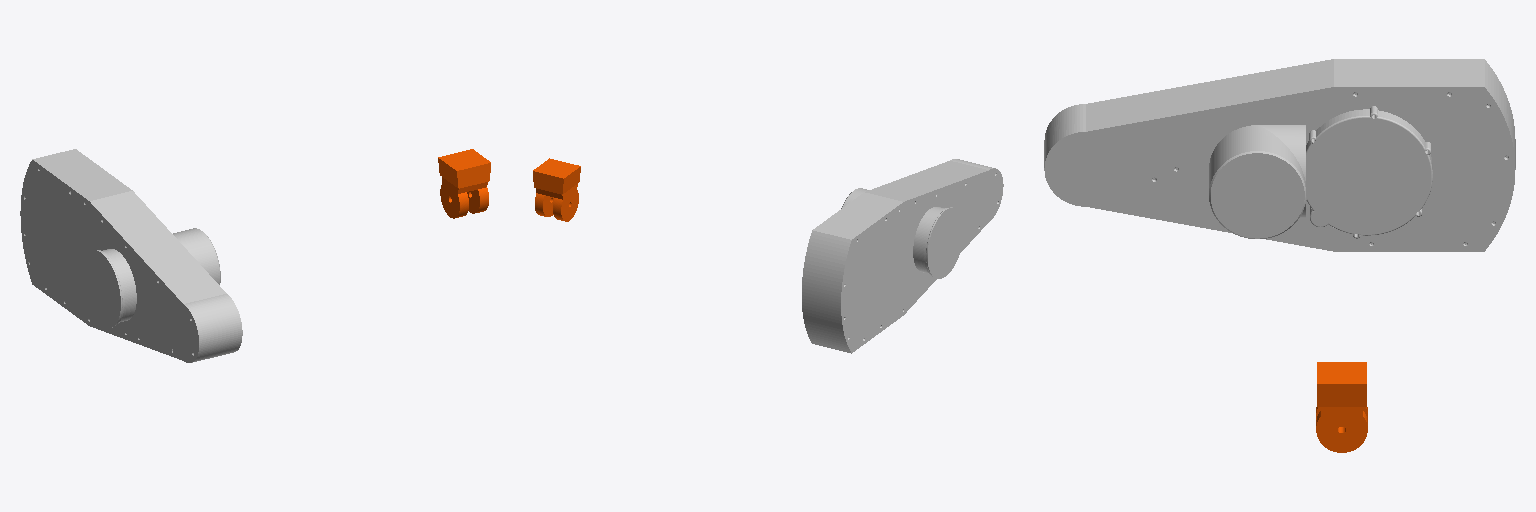
robot.urdf — puma560:
<?xml version="1.0" ?>
<!-- =================================================================================== -->
<!-- |    This document was autogenerated by xacro from [local-path]/jade_workspace/src/puma560/puma560_description/urdf/puma560_v4.xacro | -->
<!-- |    EDITING THIS FILE BY HAND IS NOT RECOMMENDED                                 | -->
<!-- =================================================================================== -->
<!-- UNIMATE Puma 560 Manipulator -->
<robot name="puma560" xmlns:xacro="http://www.ros.org/wiki/xacro">
  <material name="black">
    <color rgba="0.0 0.0 0.0 1.0"/>
  </material>
  <material name="blue">
    <color rgba="0.0 0.0 0.8 1.0"/>
  </material>
  <material name="green">
    <color rgba="0.0 0.8 0.0 1.0"/>
  </material>
  <material name="grey">
    <color rgba="0.2 0.2 0.2 1.0"/>
  </material>
  <material name="red">
    <color rgba="0.8 0.0 0.0 1.0"/>
  </material>
  <material name="red_transparent">
    <color rgba="0.8 0.0 0.0 0.5"/>
  </material>
  <material name="white">
    <color rgba="1.0 1.0 1.0 1.0"/>
  </material>
  <material name="orange">
    <color rgba="1.0 0.423529411765 0.0392156862745 1.0"/>
  </material>
  <material name="brown">
    <color rgba="0.870588235294 0.811764705882 0.764705882353 1.0"/>
  </material>
  <material name="metal">
    <color rgba="0.827450980392 0.827450980392 0.827450980392 1"/>
  </material>
  <material name="wood">
    <color rgba="0.803921568627 0.521568627451 0.247058823529 1"/>
  </material>
  <!-- Base link-->
  <gazebo reference="puma_base">
    <material>Gazebo/Grey</material>
  </gazebo>
  <!-- Link 1 -->
  <gazebo reference="puma_link_1">
    <material>Gazebo/Metal</material>
  </gazebo>
  <!-- Link 2 -->
  <gazebo reference="puma_link_2">
    <material>Gazebo/Metal</material>
  </gazebo>
  <!-- Link 3 -->
  <gazebo reference="puma_link_3">
    <material>Gazebo/Metal</material>
  </gazebo>
  <!-- Link 4 -->
  <gazebo reference="puma_link_4">
    <material>Gazebo/Orange</material>
  </gazebo>
  <!-- Link 5 -->
  <gazebo reference="puma_link_5">
    <material>Gazebo/Orange</material>
  </gazebo>
  <!-- Link definitions -->
  <link name="world"/>
  <joint name="world" type="fixed">
    <parent link="world"/>
    <child link="puma_base"/>
    <origin rpy="0 0 0" xyz="0 0 0.54864"/>
    <axis xyz="0 0 1"/>
  </joint>
  <link name="puma_base">
    <visual>
      <origin rpy="0 0 0" xyz="0 0 0"/>
      <geometry>
        <mesh filename="package://puma560_description/meshes/puma_base.stl"/>
      </geometry>
      <material name="grey"/>
    </visual>
    <collision>
      <origin rpy="0 0 0" xyz="0 0 0"/>
      <geometry>
        <mesh filename="package://puma560_description/meshes/puma_base_collision.stl"/>
      </geometry>
    </collision>
    <!-- Inertia parameters 
      mass and center of mass (com)
      inertia_diagonal defined as [Ixx Iyy Izz]
      inertia_off_diagonal defined as [Ixy Ixz Iyz]
    -->
    <inertial>
      <origin rpy="0 0 0" xyz="-0.0 0.02196 -0.356146"/>
      <mass value="42.62416"/>
      <inertia ixx="1.48565" ixy="0" ixz="0" iyy="1.36144" iyz="0.05984" izz="0.43392"/>
    </inertial>
    <inertial>
      <origin rpy="0 0 0" xyz="-0.0 0.02196 -0.356146"/>
      <mass value="15.78673"/>
      <inertia ixx="0.55024" ixy="0" ixz="0" iyy="0.50424" iyz="0.02216" izz="0.16071"/>
    </inertial>
  </link>
  <joint name="link_1" type="continuous">
    <parent link="puma_base"/>
    <child link="puma_link_1"/>
    <origin rpy="0 0 0" xyz="0 0 0.07493"/>
    <axis xyz="0 0 1"/>
  </joint>
  <link name="puma_link_1">
    <visual>
      <origin rpy="0 0 0" xyz="0 0 0"/>
      <geometry>
        <mesh filename="package://puma560_description/meshes/puma_link_1.stl"/>
      </geometry>
      <material name="metal"/>
    </visual>
    <collision>
      <origin rpy="0 0 0" xyz="0 0 0"/>
      <geometry>
        <mesh filename="package://puma560_description/meshes/puma_link_1_collision.stl"/>
      </geometry>
    </collision>
    <!-- Inertia parameters 
      mass and center of mass (com)
      inertia_diagonal defined as [Ixx Iyy Izz]
      inertia_off_diagonal defined as [Ixy Ixz Iyz]
    -->
    <inertial>
      <origin rpy="0 0 0" xyz="-0.0 0.022503 -0.002794"/>
      <mass value="11.97216"/>
      <inertia ixx="0.07379" ixy="0" ixz="0" iyy="0.03595" iyz="-0.00075" izz="0.07334"/>
    </inertial>
    <inertial>
      <origin rpy="0 0 0" xyz="-0.0 0.022503 -0.002794"/>
      <mass value="4.43413"/>
      <inertia ixx="0.02733" ixy="0" ixz="0" iyy="0.01332" iyz="-0.00028" izz="0.02716"/>
    </inertial>
  </link>
  <joint name="link_2" type="continuous">
    <parent link="puma_link_1"/>
    <child link="puma_link_2"/>
    <origin rpy="1.57079632679 0 0" xyz="0 0.16764 0"/>
    <axis xyz="0 0 1"/>
  </joint>
  <link name="puma_link_2">
    <visual>
      <origin rpy="0 0 0" xyz="0 0 0"/>
      <geometry>
        <mesh filename="package://puma560_description/meshes/puma_link_2.stl"/>
      </geometry>
      <material name="metal"/>
    </visual>
    <collision>
      <origin rpy="0 0 0" xyz="0 0 0"/>
      <geometry>
        <mesh filename="package://puma560_description/meshes/puma_link_2_collision.stl"/>
      </geometry>
    </collision>
    <!-- Inertia parameters 
      mass and center of mass (com)
      inertia_diagonal defined as [Ixx Iyy Izz]
      inertia_off_diagonal defined as [Ixy Ixz Iyz]
    -->
    <inertial>
      <origin rpy="0 0 0" xyz="0.082741 4.7e-05 -0.047642"/>
      <mass value="45.48585"/>
      <inertia ixx="0.26252" ixy="2e-05" ixz="0.26252" iyy="1.61075" iyz="-0.00013" izz="1.78135"/>
    </inertial>
    <inertial>
      <origin rpy="0 0 0" xyz="0.082741 4.7e-05 -0.047642"/>
      <mass value="16.84661"/>
      <inertia ixx="0.09723" ixy="1e-05" ixz="0.00435" iyy="0.59657" iyz="-5e-05" izz="0.65976"/>
    </inertial>
  </link>
  <joint name="link_3" type="continuous">
    <parent link="puma_link_2"/>
    <child link="puma_link_3"/>
    <origin rpy="0 0 0" xyz="0.4318 0 0"/>
    <axis xyz="0 0 1"/>
  </joint>
  <link name="puma_link_3">
    <visual>
      <origin rpy="0 0 0" xyz="0 0 0"/>
      <geometry>
        <mesh filename="package://puma560_description/meshes/puma_link_3.stl"/>
      </geometry>
      <material name="metal"/>
    </visual>
    <collision>
      <origin rpy="0 0 0" xyz="0 0 0"/>
      <geometry>
        <mesh filename="package://puma560_description/meshes/puma_link_3_collision.stl"/>
      </geometry>
    </collision>
    <!-- Inertia parameters 
      mass and center of mass (com)
      inertia_diagonal defined as [Ixx Iyy Izz]
      inertia_off_diagonal defined as [Ixy Ixz Iyz]
    -->
    <inertial>
      <origin rpy="0 0 0" xyz="0.088782 -1e-06 0.038098"/>
      <mass value="12.42678"/>
      <inertia ixx="0.02482" ixy="0" ixz="0" iyy="0.22306" iyz="0" izz="0.23586"/>
    </inertial>
    <inertial>
      <origin rpy="0 0 0" xyz="0.088782 -1e-06 0.038098"/>
      <mass value="4.60251"/>
      <inertia ixx="0.00919" ixy="0" ixz="1e-05" iyy="0.08262" iyz="0" izz="0.08735"/>
    </inertial>
  </link>
  <joint name="link_4" type="continuous">
    <parent link="puma_link_3"/>
    <child link="puma_link_4"/>
    <origin rpy="0 1.57079632679 0" xyz="0.35179 0 0.0381 "/>
    <axis xyz="0 0 1"/>
  </joint>
  <link name="puma_link_4">
    <visual>
      <origin rpy="0 0 0" xyz="0 0 0"/>
      <geometry>
        <mesh filename="package://puma560_description/meshes/puma_link_4.stl"/>
      </geometry>
      <material name="orange"/>
    </visual>
    <collision>
      <origin rpy="0 0 0" xyz="0 0 0"/>
      <geometry>
        <mesh filename="package://puma560_description/meshes/puma_link_4_collision.stl"/>
      </geometry>
    </collision>
    <!-- Inertia parameters 
      mass and center of mass (com)
      inertia_diagonal defined as [Ixx Iyy Izz]
      inertia_off_diagonal defined as [Ixy Ixz Iyz]
    -->
    <inertial>
      <origin rpy="0 0 0" xyz="-0.0 -0.0 0.047887"/>
      <mass value="1.27113"/>
      <inertia ixx="0.00209" ixy="0" ixz="0" iyy="0.00199" iyz="0" izz="0.00126"/>
    </inertial>
    <inertial>
      <origin rpy="0 0 0" xyz="-0.0 -0.0 0.047887"/>
      <mass value="0.47079"/>
      <inertia ixx="0.00077" ixy="0" ixz="0" iyy="0.00074" iyz="0" izz="0.00047"/>
    </inertial>
  </link>
  <joint name="link_5" type="continuous">
    <parent link="puma_link_4"/>
    <child link="puma_link_5"/>
    <origin rpy="0 -1.57079632679 -1.57079632679" xyz="0 0 0.0803 "/>
    <axis xyz="0 0 1"/>
  </joint>
  <link name="puma_link_5">
    <visual>
      <origin rpy="0 0 0" xyz="0 0 0"/>
      <geometry>
        <mesh filename="package://puma560_description/meshes/puma_link_5.stl"/>
      </geometry>
      <material name="orange"/>
    </visual>
    <collision>
      <origin rpy="0 0 0" xyz="0 0 0"/>
      <geometry>
        <mesh filename="package://puma560_description/meshes/puma_link_5_collision.stl"/>
      </geometry>
    </collision>
    <!-- Inertia parameters 
      mass and center of mass (com)
      inertia_diagonal defined as [Ixx Iyy Izz]
      inertia_off_diagonal defined as [Ixy Ixz Iyz]
    -->
    <inertial>
      <origin rpy="0 0 0" xyz="0.010974 0.0 0.0"/>
      <mass value="0.209"/>
      <inertia ixx="5e-05" ixy="0" ixz="0" iyy="0.00012" iyz="0" izz="0.00012"/>
    </inertial>
    <inertial>
      <origin rpy="0 0 0" xyz="0.010974 0.0 0.0"/>
      <mass value="0.07741"/>
      <inertia ixx="2e-05" ixy="0" ixz="0" iyy="4e-05" iyz="0" izz="5e-05"/>
    </inertial>
  </link>
</robot>
<!--     Parameters for uniform body 
    <xacro:general_inertia_definition
      mass="0" 
      com="${[0, 0, 0, 0, 0, 0]}"
      inertia_diagonal="${[0, 0, 0]}"
      inertia_off_diagonal="${[0, 0, 0]}"
      />
    -->

--- Render facts (derived) ---
The picture shows the robot from 3 angles, left to right: view 1: azimuth 30°, elevation 25°; view 2: azimuth 150°, elevation 25°; view 3: azimuth 270°, elevation 25°; orthographic projection.
Model puma560 with 7 links and 6 joints (5 continuous, 1 fixed), rooted at world, posed all joints at 0.
Links seen in each view (by area): view 1: puma_link_2, puma_link_1, puma_link_4; view 2: puma_link_2, puma_link_1, puma_link_4; view 3: puma_link_2, puma_link_1, puma_link_4.
Link boxes in pixels (bbox=[...]): puma_link_2: bbox=[20, 149, 242, 362]; puma_link_1: bbox=[81, 228, 220, 327]; puma_link_4: bbox=[438, 149, 490, 218]; puma_link_2: bbox=[802, 159, 1003, 353]; puma_link_1: bbox=[841, 188, 963, 278]; puma_link_4: bbox=[533, 158, 580, 221]; puma_link_2: bbox=[1044, 59, 1515, 251]; puma_link_1: bbox=[1209, 125, 1305, 238]; puma_link_4: bbox=[1316, 362, 1367, 452].
Bounding box of the posed robot: 0.9665 × 0.7239 × 0.2794 m (x, y, z).
3 mesh visuals loaded from 6 distinct referenced files (3 binary STL); not drawn: 3 (reference not matched to a file when rendering).
